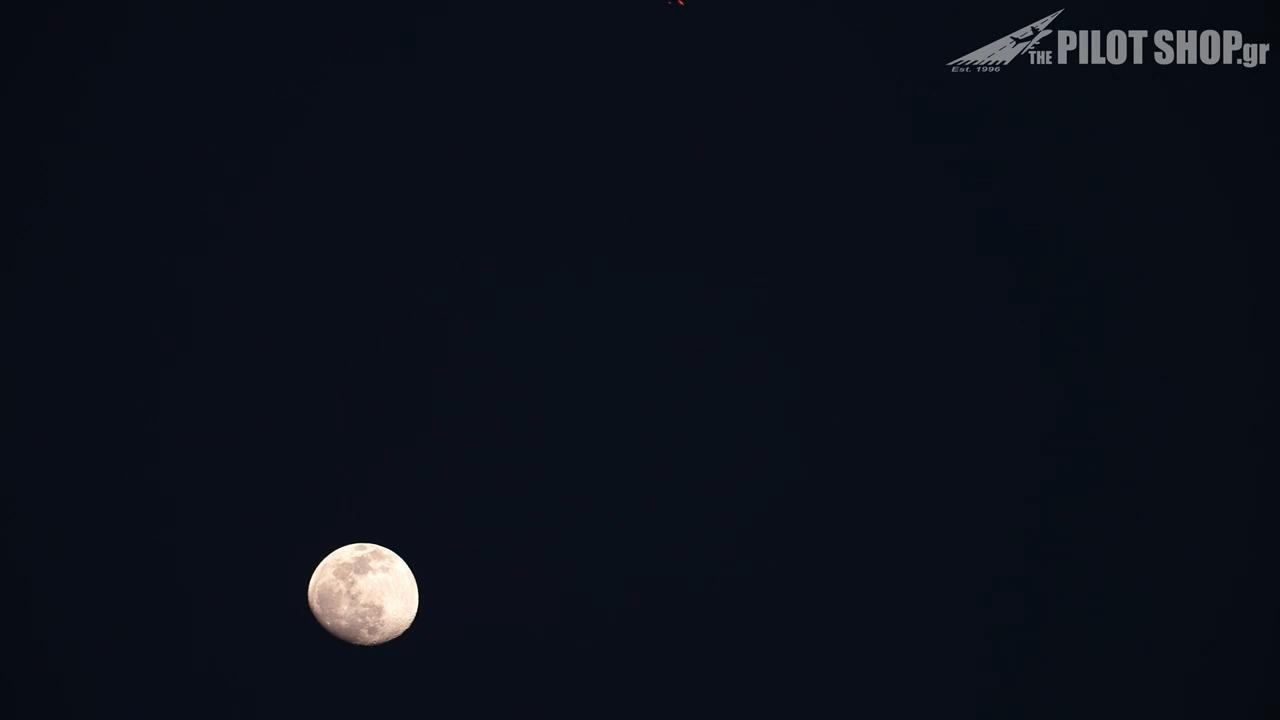Plane: (654, 0, 707, 30)
